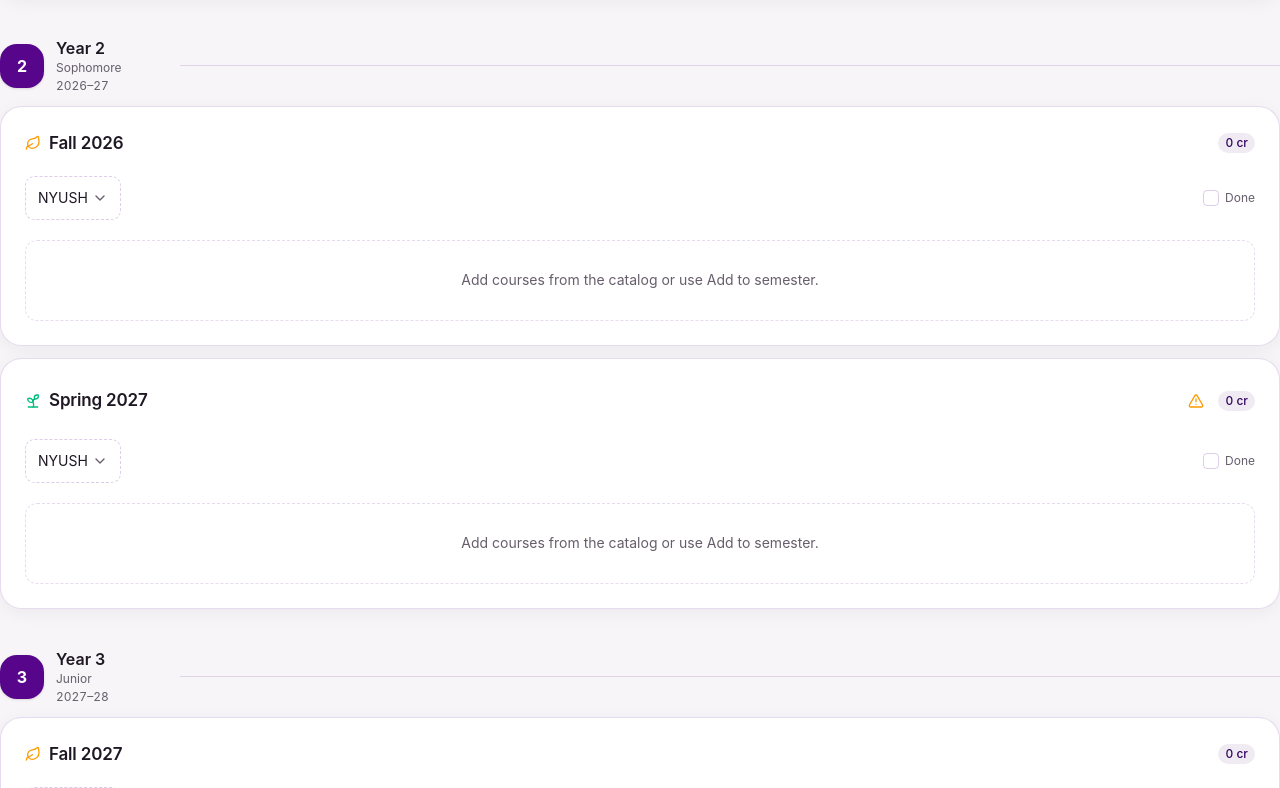
Test: PlannerBoard › reports a semester-level warning directly from the plan
(page scrolled)
Click the button named "Warnings for Spring 2027".
click(1196, 401)  # box [1178,383,1214,419]
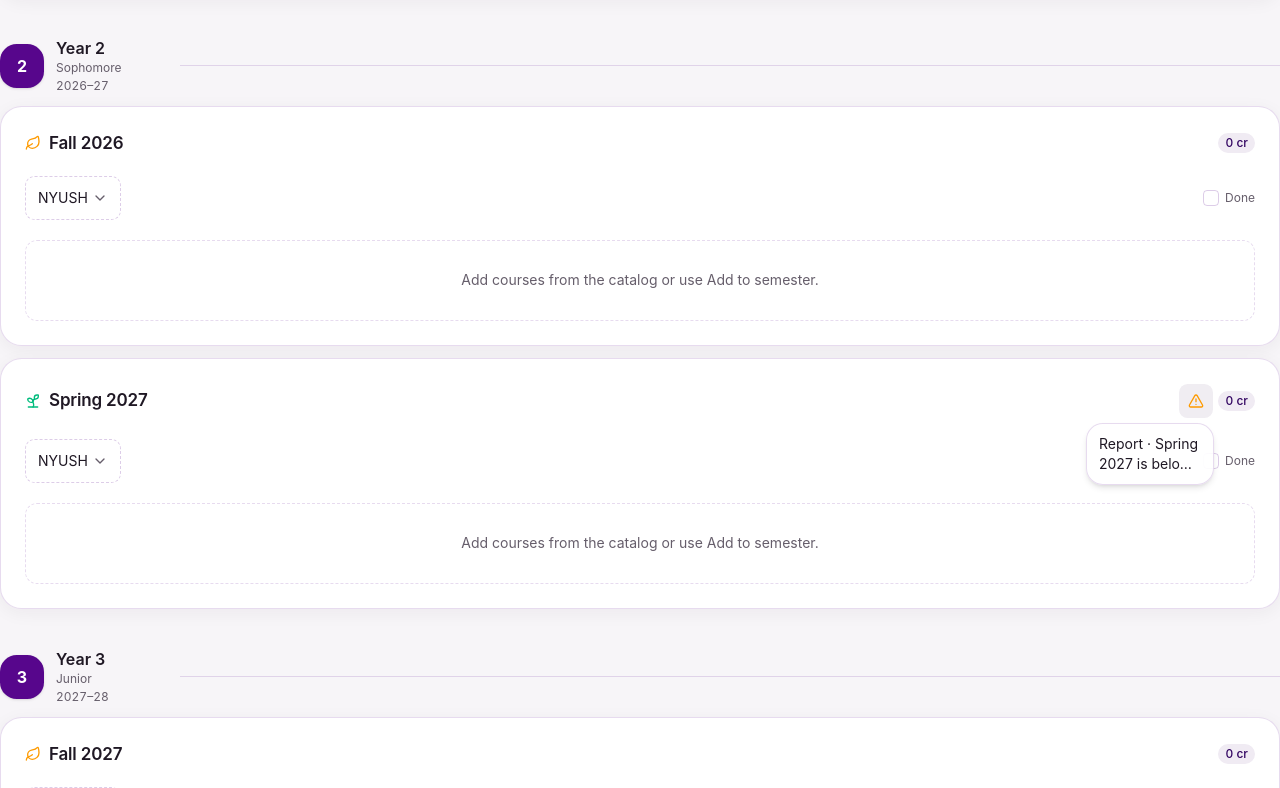
Click the menu item "Report · Spring 2027 is below the full-time minimum.".
click(1150, 454)  # box [1093,430,1207,478]
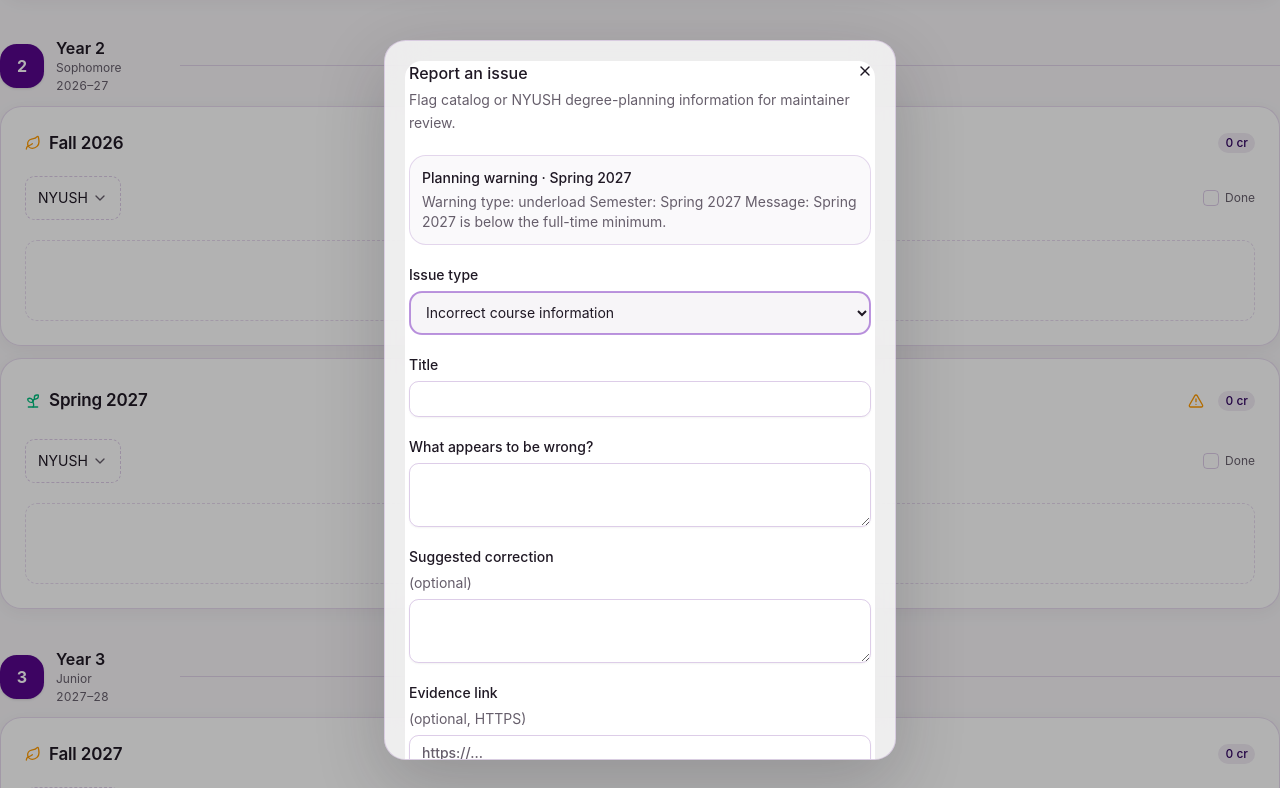
Now the heading "Report an issue" is shown, box [409,63,528,83]
Now the text "Planning warning · Spring 2027" is shown, box [422,168,631,186]
